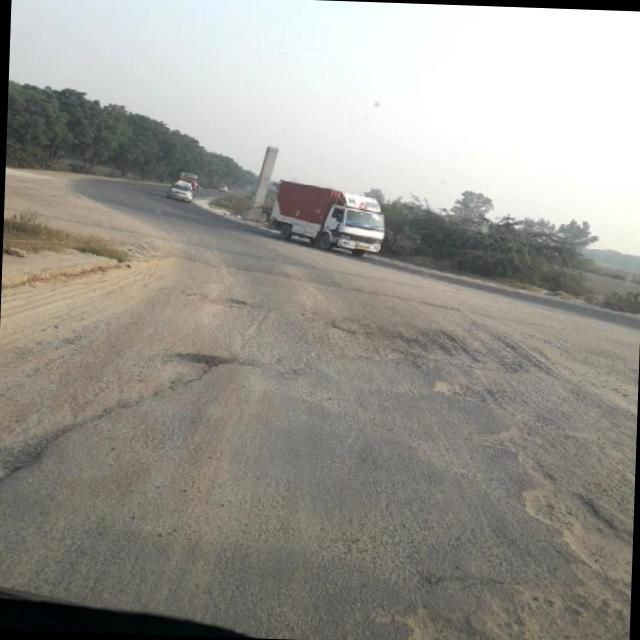crack: (10, 336, 240, 484), (138, 267, 453, 368)
pothole: (318, 298, 560, 408), (378, 548, 631, 640), (498, 420, 634, 588)
